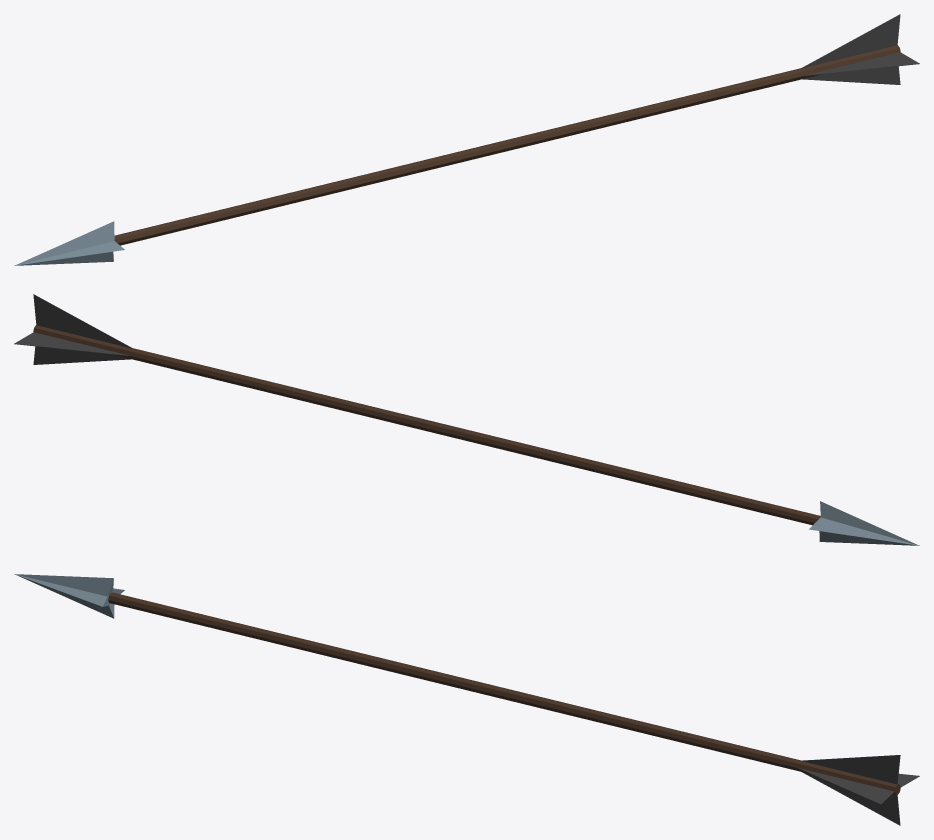
Rendered from arrow.fbx.
The picture shows the model from 3 angles, top to bottom: view 1: azimuth 30°, elevation 25°; view 2: azimuth 150°, elevation 25°; view 3: azimuth 330°, elevation 25°; orthographic projection.
Parts seen in each view (by area): view 1: arrow; view 2: arrow; view 3: arrow.
Part boxes in pixels (x1=…): arrow: x1=14, y1=14, x2=919, y2=265; arrow: x1=14, y1=294, x2=919, y2=545; arrow: x1=14, y1=574, x2=919, y2=825.
Size of the model in its own units: 81.54 by 6.23 by 6.23.
